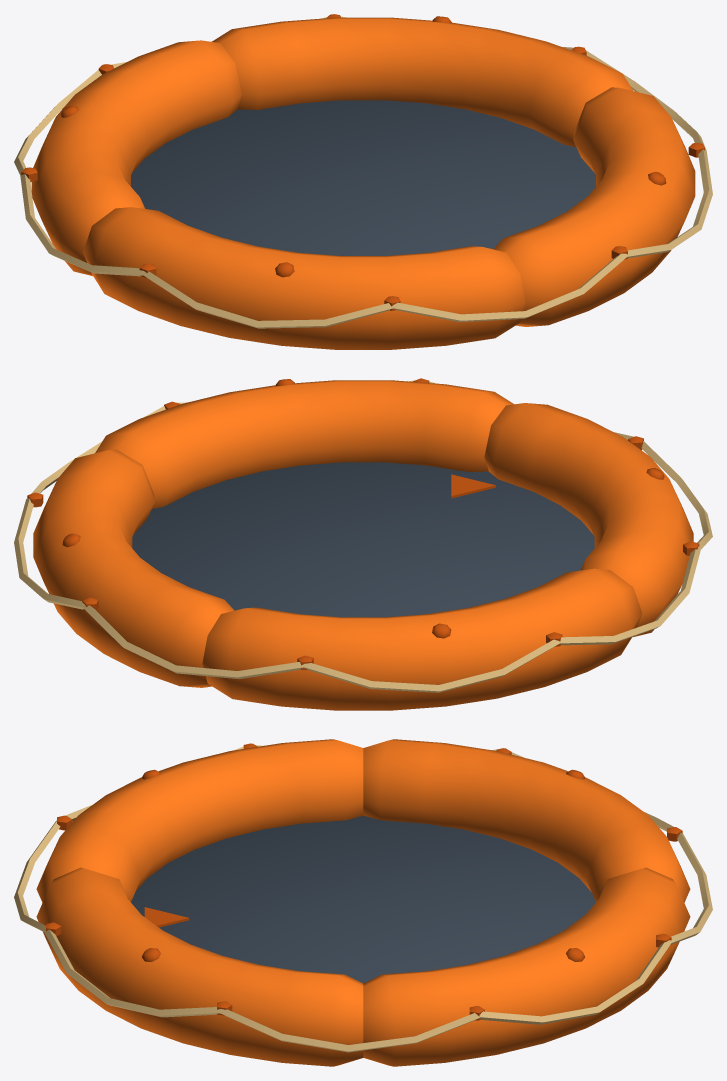
Rendered from MiniRaft.fbx.
The picture shows the model from 3 angles, top to bottom: view 1: azimuth 30°, elevation 25°; view 2: azimuth 150°, elevation 25°; view 3: azimuth 270°, elevation 25°; orthographic projection.
Visible parts, largest first — view 1: Raft_Floor, Chamber_0_NE, Chamber_3_SO, Chamber_1_NO, Chamber_2_SE, Raft_Rope; view 2: Raft_Floor, Chamber_2_SE, Chamber_1_NO, Chamber_3_SO, Chamber_0_NE, Raft_Rope; view 3: Raft_Floor, Chamber_3_SO, Chamber_1_NO, Chamber_0_NE, Chamber_2_SE, Raft_Rope.
Boxes of the visible parts, x1,y1,x2,y2 form: Raft_Floor: (131, 100, 595, 255); Chamber_0_NE: (83, 207, 525, 349); Chamber_3_SO: (212, 16, 633, 147); Chamber_1_NO: (493, 87, 695, 326); Chamber_2_SE: (31, 40, 241, 275); Raft_Rope: (14, 14, 712, 328); Raft_Floor: (132, 462, 594, 617); Chamber_2_SE: (202, 568, 642, 710); Chamber_1_NO: (95, 379, 513, 508); Chamber_3_SO: (33, 449, 233, 687); Chamber_0_NE: (484, 403, 693, 637); Raft_Rope: (14, 378, 712, 692); Raft_Floor: (131, 815, 595, 983); Chamber_3_SO: (363, 867, 690, 1066); Chamber_1_NO: (36, 867, 363, 1066); Chamber_0_NE: (36, 739, 363, 902); Chamber_2_SE: (363, 739, 690, 902); Raft_Rope: (14, 743, 712, 1052).
Bounding box in the file's own units: 2.13 × 0.3 × 2.13.
